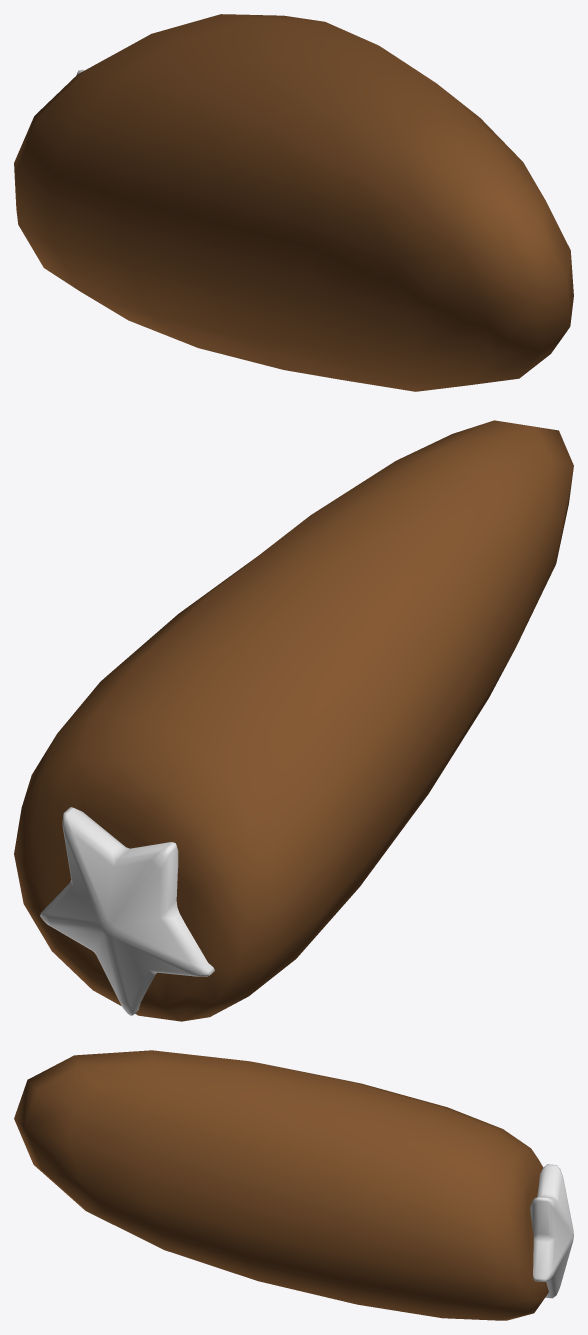
File: DEFRightLegBear.fbx
The picture shows the model from 3 angles, top to bottom: view 1: azimuth 30°, elevation 25°; view 2: azimuth 150°, elevation 25°; view 3: azimuth 270°, elevation 25°; orthographic projection. The views are drawn at different scales.
Parts seen in each view (by area): view 1: RightLeg; view 2: RightLeg, star; view 3: RightLeg, star.
Boxes of the visible parts, left/top/right/bottom form: RightLeg: left=14, top=14, right=573, bottom=391; RightLeg: left=14, top=420, right=573, bottom=1021; star: left=40, top=807, right=214, bottom=1015; RightLeg: left=14, top=1050, right=548, bottom=1320; star: left=530, top=1164, right=573, bottom=1298.
Size of the model in its own units: 50.82 by 58.4 by 122.
